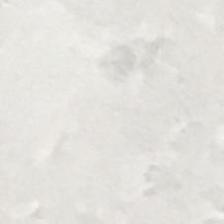Non_Crack: (24, 18, 208, 206)
